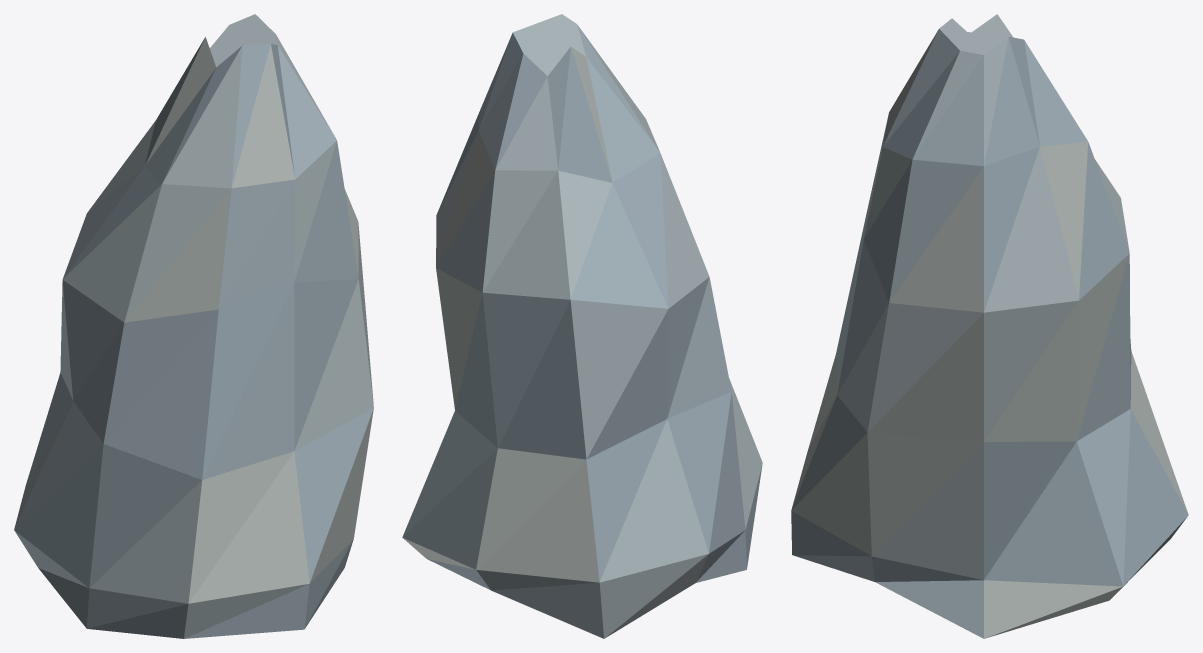
Rendered from crag.glb.
3 views of the same model, side by side, from view 1: azimuth 30°, elevation 25°; view 2: azimuth 150°, elevation 25°; view 3: azimuth 270°, elevation 25° (orthographic). The views are drawn at different scales.
Parts seen in each view (by area): view 1: ValleyCrag; view 2: ValleyCrag; view 3: ValleyCrag.
Boxes of the visible parts, x1,y1,x2,y2 form: ValleyCrag: (14, 14, 373, 638); ValleyCrag: (402, 14, 762, 638); ValleyCrag: (791, 14, 1188, 638).
Size of the model in its own units: 2.05 by 3.42 by 2.17.
